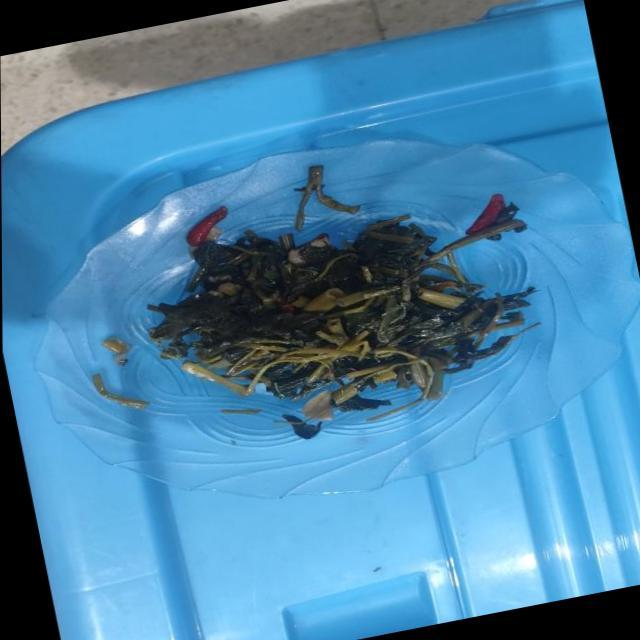tumis_kangkung: (148, 195, 536, 420)
